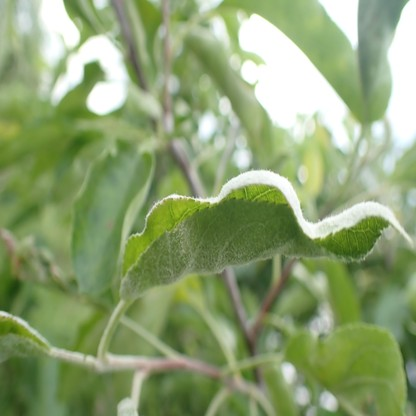powdery_mildew: (119, 169, 415, 289), (0, 334, 38, 362)
